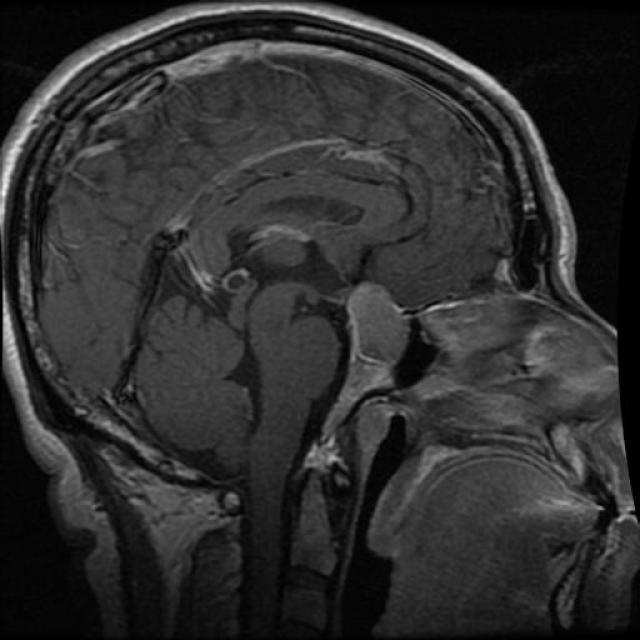pituitary: (328, 279, 426, 389)
